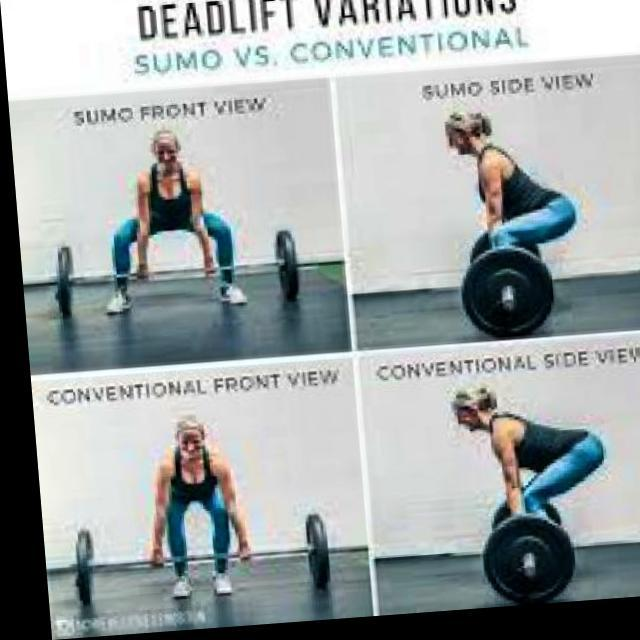barbell: (450, 246, 557, 353), (464, 512, 570, 616)
